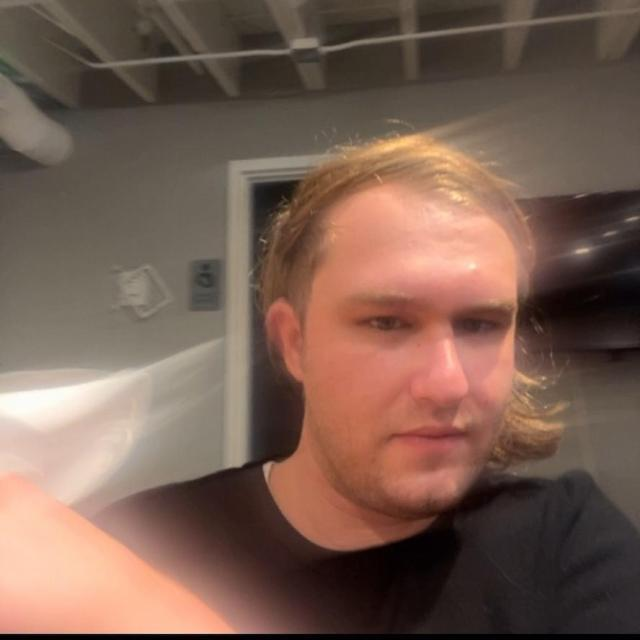no hat: (256, 112, 529, 548)
